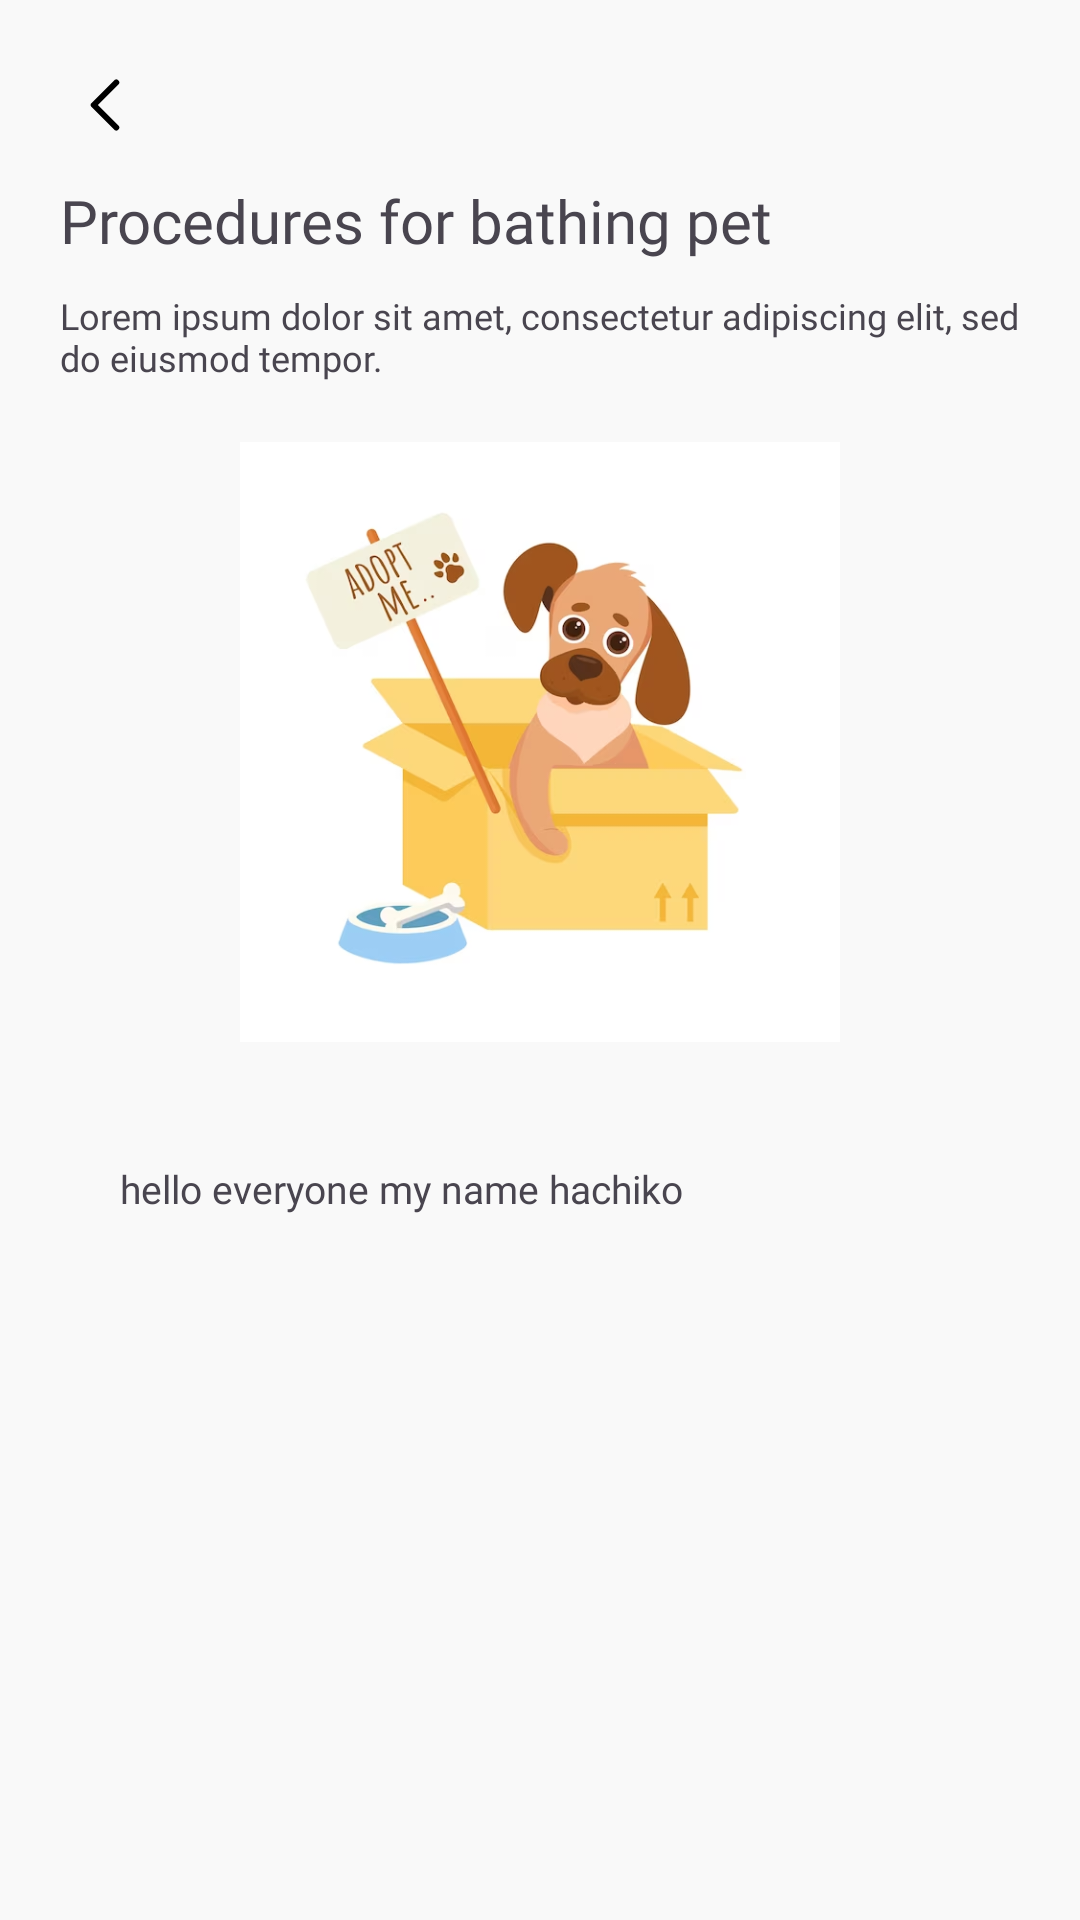

Named icons in this screenshot (1080px x 1920px) and their centers, [x,y]:
button kembali: [105,105]
